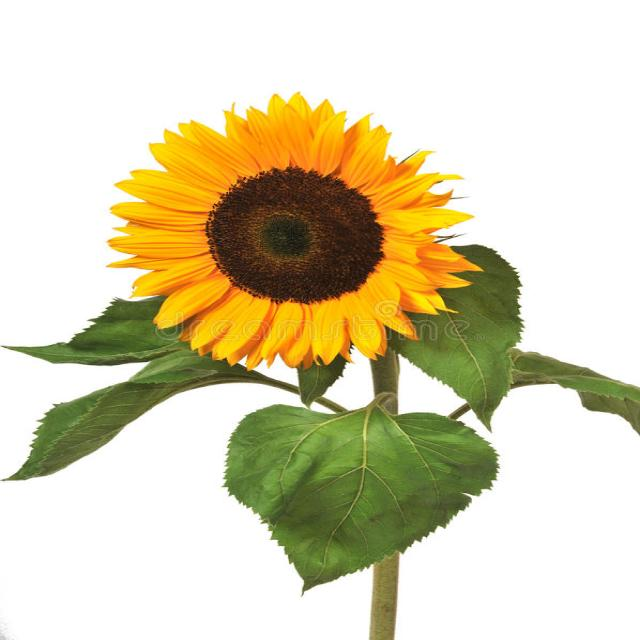sunflower: (94, 89, 492, 374)
